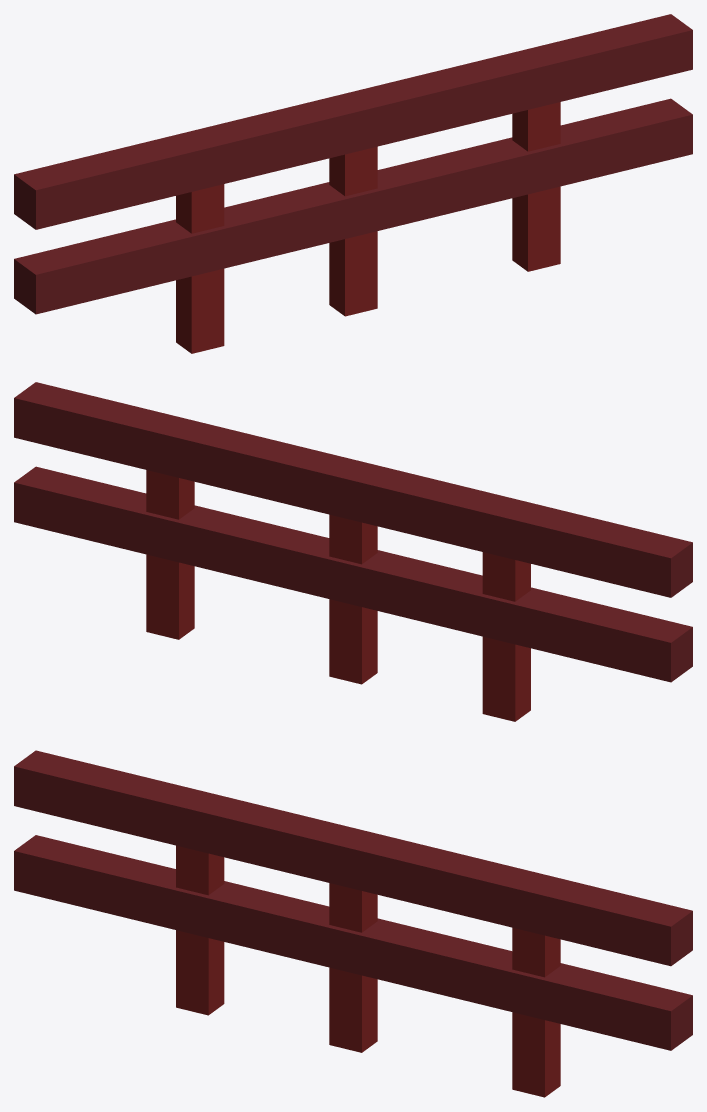
The model's file is Fence_2_1 Asia.fbx.
3 renders of one model, top to bottom at view 1: azimuth 30°, elevation 25°; view 2: azimuth 150°, elevation 25°; view 3: azimuth 330°, elevation 25°, orthographic.
Visible parts, largest first — view 1: Fence_2_1; view 2: Fence_2_1; view 3: Fence_2_1.
Part boxes in pixels (box(x1,y1,x2,y2)): Fence_2_1: box(14, 14, 692, 353); Fence_2_1: box(14, 382, 692, 721); Fence_2_1: box(14, 750, 692, 1097).
Size of the model in its own units: 2.51 by 0.747 by 0.1446.
